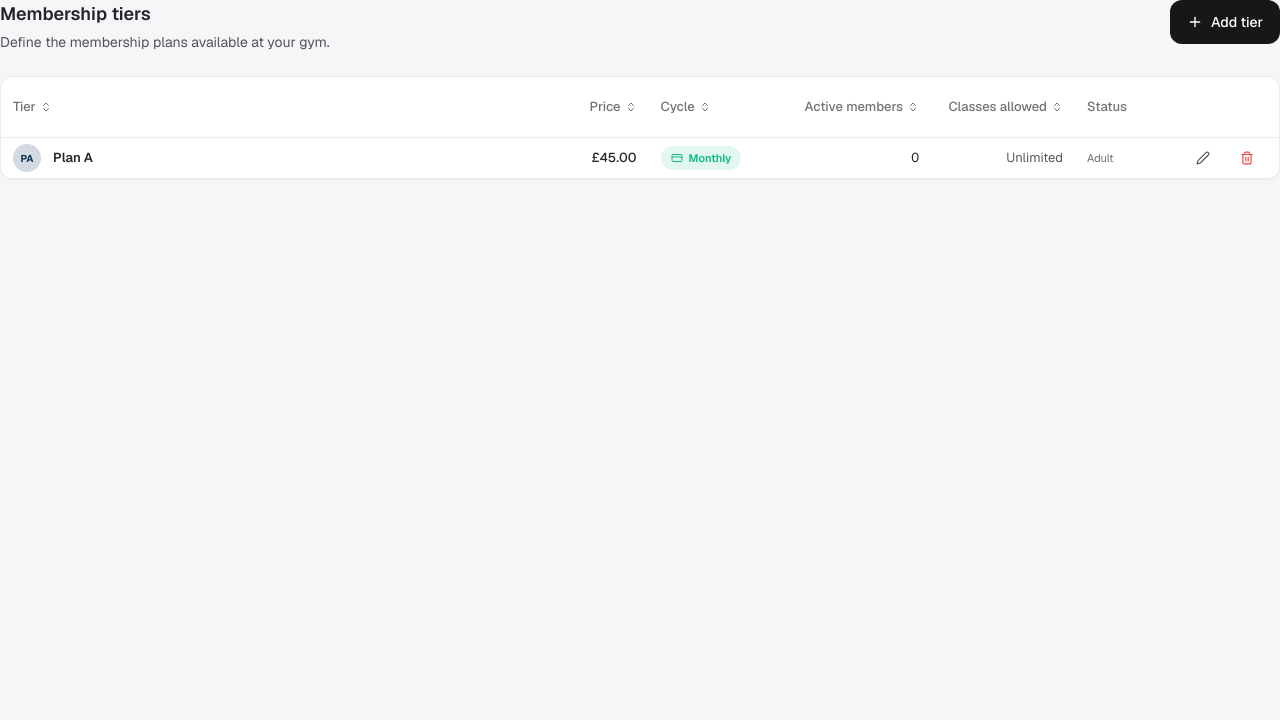
Test: the class allowance in the tier editor › sends the allowance only when it changed from what the form loaded › opened Unlimited, another session sets 4 every 4 weeks: a price-only save omits the set and it survives
Click the button named "Edit Plan A": (1203, 158) x1=1183 y1=142 x2=1223 y2=174
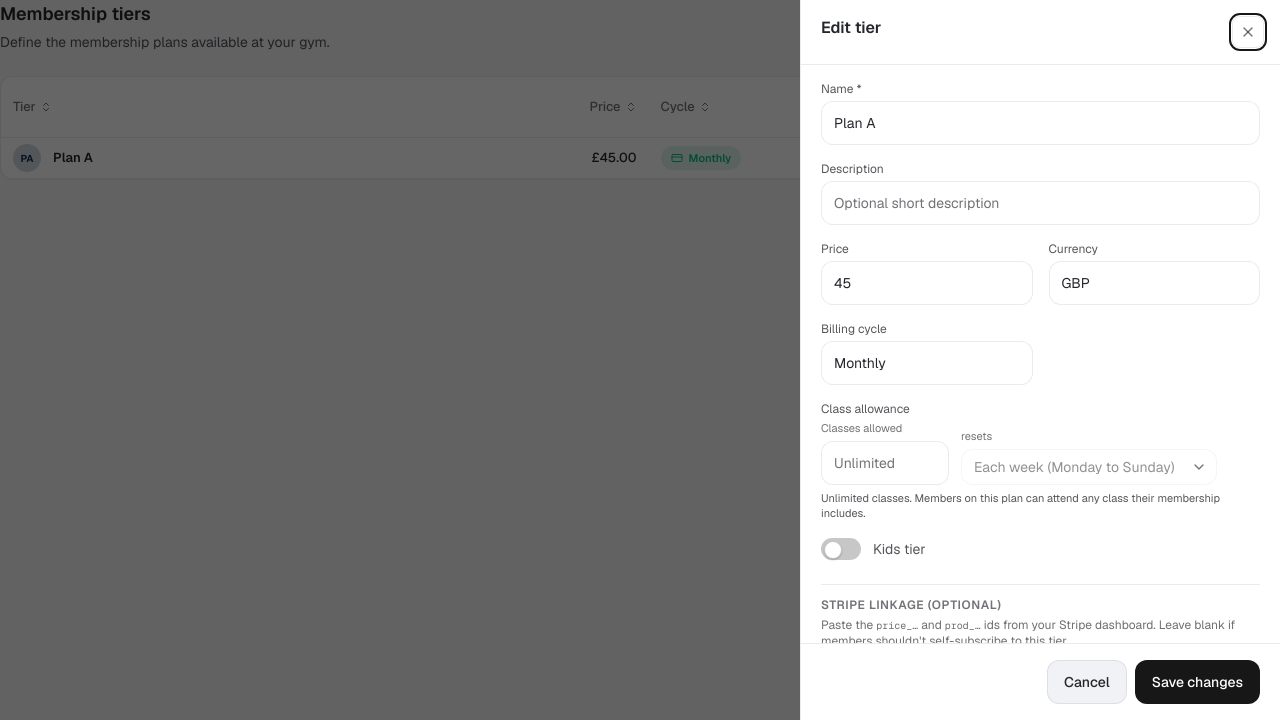
Replace the text in the number field labelled "Price" with "50": (927, 283) x1=821 y1=261 x2=1032 y2=305
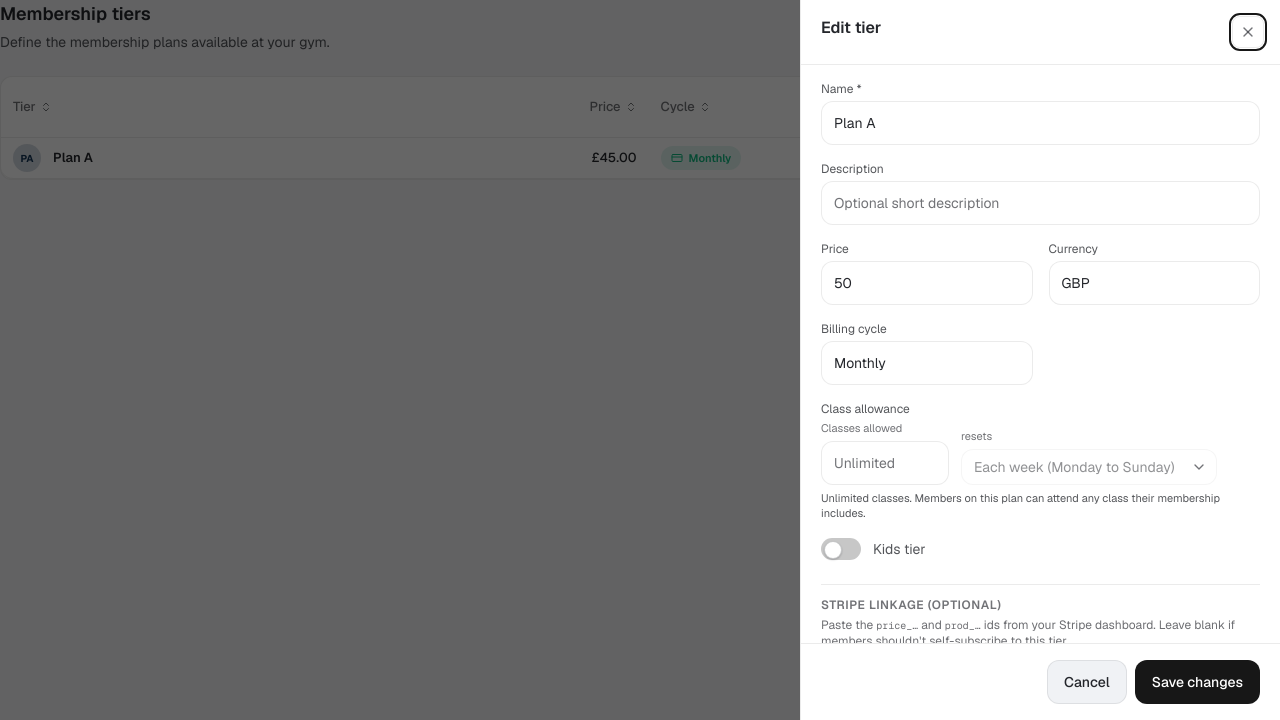
Click the button "Save changes": (1197, 682) x1=1135 y1=660 x2=1260 y2=704
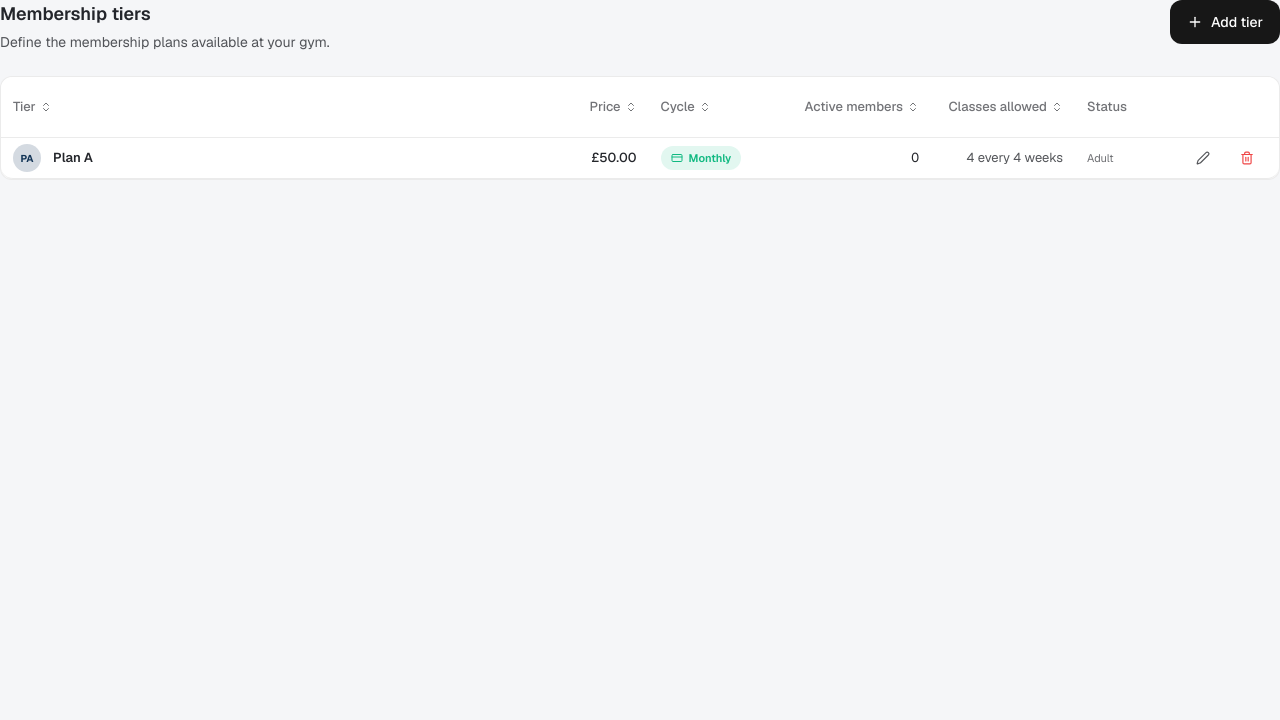
Now the text "4 every 4 weeks" is shown, box x1=966 y1=149 x2=1063 y2=166
